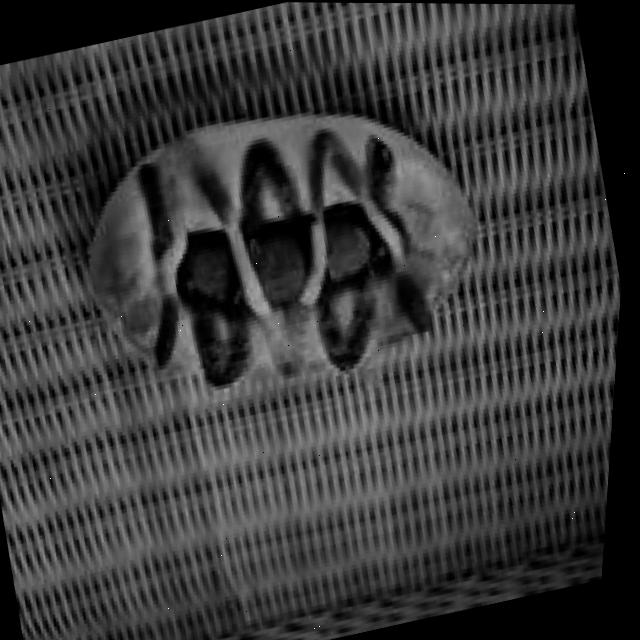三明治: (26, 57, 540, 469)
